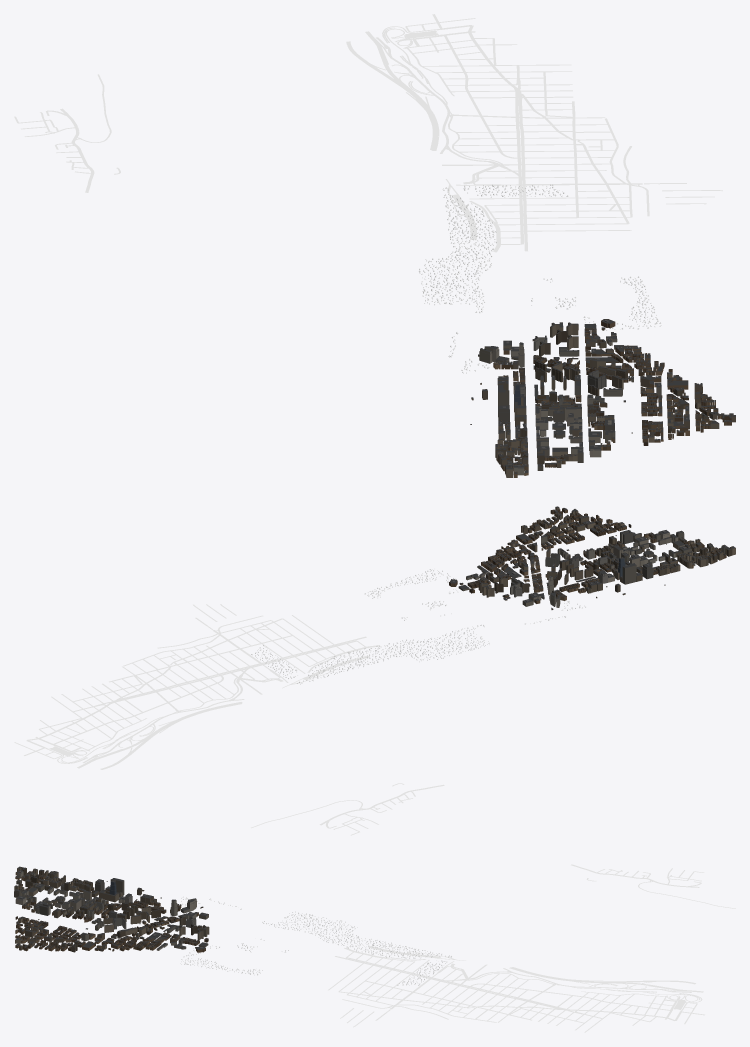
The model's file is manhattan_+00_+02.glb.
The picture shows the model from 3 angles, top to bottom: view 1: azimuth 30°, elevation 25°; view 2: azimuth 150°, elevation 25°; view 3: azimuth 270°, elevation 25°; orthographic projection. The views are drawn at different scales.
Parts seen in each view (by area): view 1: ROAD_+00_+02, BLD_midrise_+00_+02, BLD_lowrise_+00_+02, TREE_+00_+02; view 2: ROAD_+00_+02, BLD_midrise_+00_+02, BLD_lowrise_+00_+02, TREE_+00_+02; view 3: ROAD_+00_+02, BLD_midrise_+00_+02, BLD_lowrise_+00_+02, TREE_+00_+02, BLD_towers_+00_+02.
Part boxes in pixels (bbox=[...]): ROAD_+00_+02: bbox=[14, 14, 722, 252]; BLD_midrise_+00_+02: bbox=[479, 322, 735, 477]; BLD_lowrise_+00_+02: bbox=[470, 319, 733, 477]; TREE_+00_+02: bbox=[419, 185, 661, 373]; ROAD_+00_+02: bbox=[14, 604, 444, 835]; BLD_midrise_+00_+02: bbox=[478, 506, 735, 607]; BLD_lowrise_+00_+02: bbox=[449, 508, 726, 609]; TREE_+00_+02: bbox=[251, 568, 586, 684]; ROAD_+00_+02: bbox=[328, 864, 735, 1032]; BLD_midrise_+00_+02: bbox=[14, 866, 209, 952]; BLD_lowrise_+00_+02: bbox=[15, 871, 208, 952]; TREE_+00_+02: bbox=[180, 896, 452, 985]; BLD_towers_+00_+02: bbox=[109, 878, 177, 916].
Bounding box in the file's own units: 2917 × 145 × 5287.
